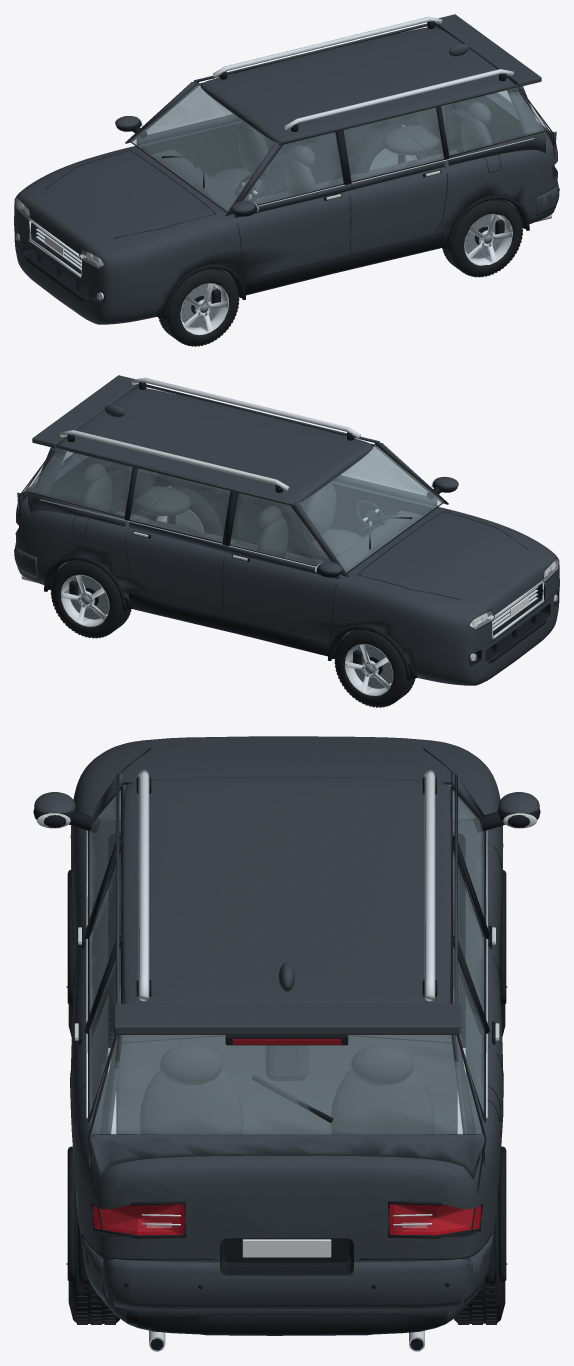
The model's file is quote-crossover-v1.glb.
3 views of the same model, one above another, from view 1: azimuth 30°, elevation 25°; view 2: azimuth 150°, elevation 25°; view 3: azimuth 270°, elevation 25° (orthographic). The views are drawn at different scales.
Visible parts, largest first — view 1: Aerodynamic mirror painted cap, Front side door glass, Aerodynamic mirror lower housing, Adjustable headrest, 107 reused Alloy_five_spoke_rim, 107 reused Sculpted_tyre, 107 reused Center_cap, Clear reversing lens insert; view 2: Aerodynamic mirror painted cap, Front side door glass, Aerodynamic mirror lower housing, Adjustable headrest, 107 reused Alloy_five_spoke_rim, 107 reused Sculpted_tyre, 107 reused Center_cap, Clear reversing lens insert; view 3: Aerodynamic mirror painted cap, Front side door glass, Adjustable headrest, Aerodynamic mirror lower housing, 107 reused Alloy_five_spoke_rim, Flush corner wrapping ruby lamp lens, 107 reused Sculpted_tyre, Front license plate.
Part boxes in pixels (box(x1,y1,x2,y2)): Aerodynamic mirror painted cap: box(14, 14, 559, 324); Front side door glass: box(130, 84, 549, 211); Aerodynamic mirror lower housing: box(14, 21, 559, 323); Adjustable headrest: box(151, 102, 515, 285); 107 reused Alloy_five_spoke_rim: box(17, 16, 552, 335); 107 reused Sculpted_tyre: box(158, 125, 522, 346); 107 reused Center_cap: box(181, 149, 512, 327); Clear reversing lens insert: box(15, 198, 103, 300); Aerodynamic mirror painted cap: box(14, 375, 559, 685); Front side door glass: box(24, 445, 443, 572); Aerodynamic mirror lower housing: box(14, 382, 559, 684); Adjustable headrest: box(58, 463, 422, 638); 107 reused Alloy_five_spoke_rim: box(21, 377, 556, 695); 107 reused Sculpted_tyre: box(50, 486, 415, 707); 107 reused Center_cap: box(61, 510, 392, 688); Clear reversing lens insert: box(470, 559, 558, 661); Aerodynamic mirror painted cap: box(34, 736, 539, 1334); Front side door glass: box(89, 784, 484, 1134); Adjustable headrest: box(116, 854, 457, 1275); Aerodynamic mirror lower housing: box(33, 748, 540, 1350); 107 reused Alloy_five_spoke_rim: box(37, 769, 536, 1351); Flush corner wrapping ruby lamp lens: box(93, 1039, 480, 1235); 107 reused Sculpted_tyre: box(68, 959, 505, 1324); Front license plate: box(242, 1239, 331, 1257).
Bounding box in the file's own units: 4.76 × 1.82 × 2.24.
10 materials, 10 textured.
